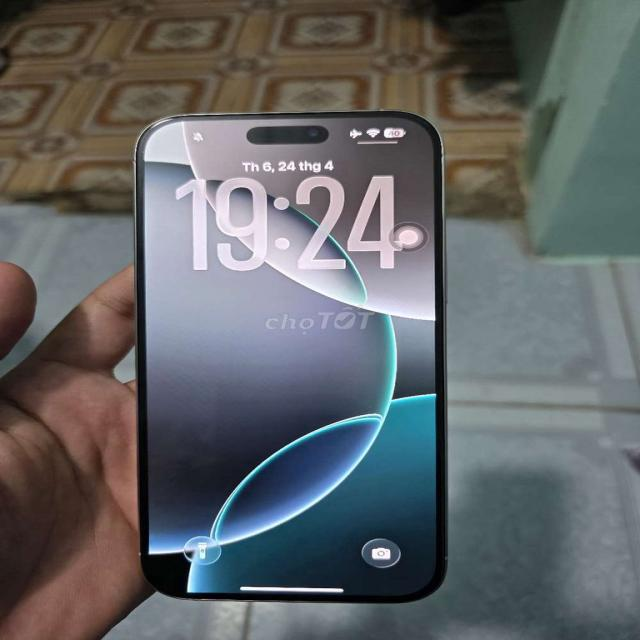gen_16: (134, 109, 445, 602)
